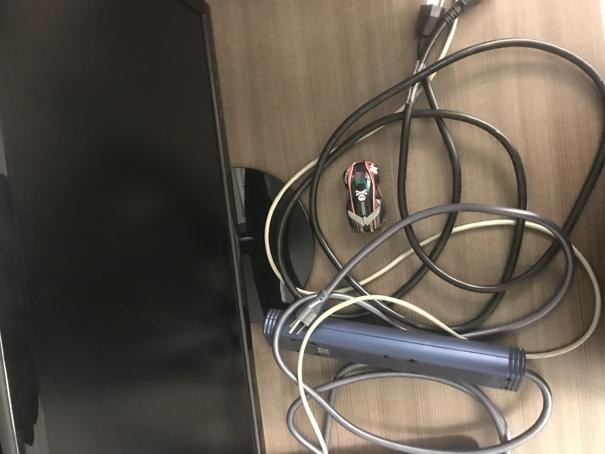Skull: (342, 161, 387, 236)
